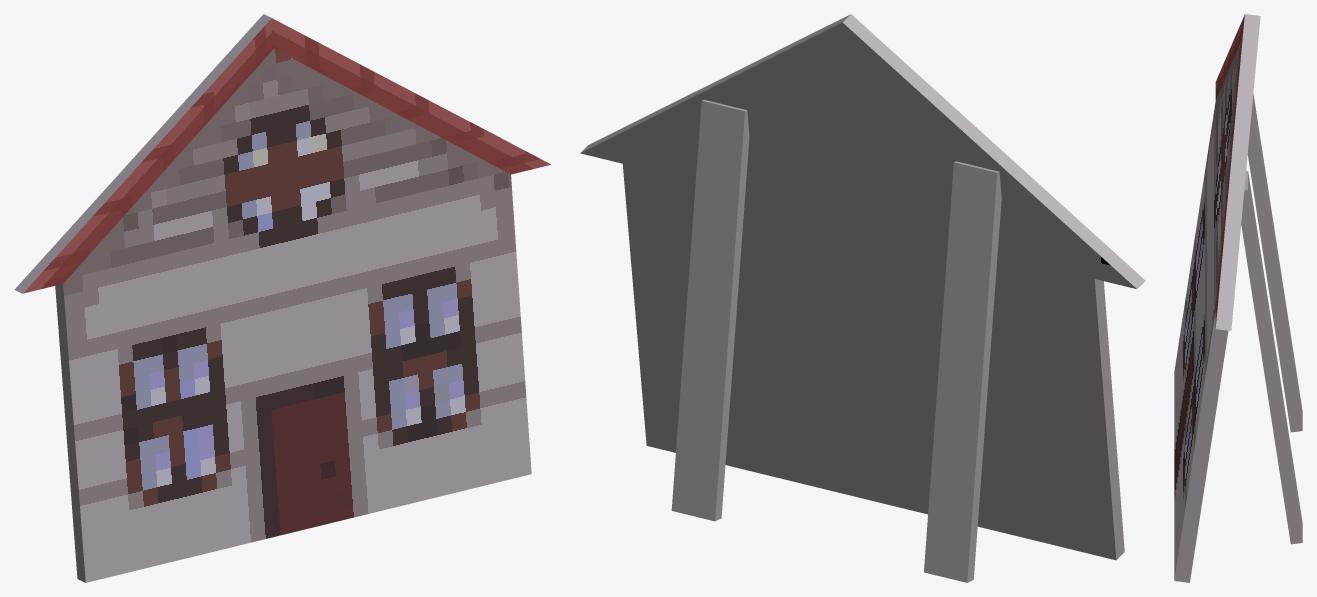
Rendered from FakeHome001.fbx.
3 renders of one model, left to right at view 1: azimuth 30°, elevation 25°; view 2: azimuth 150°, elevation 25°; view 3: azimuth 270°, elevation 25°, orthographic. The views are drawn at different scales.
Parts seen in each view (by area): view 1: Cube.007; view 2: Cube.007; view 3: Cube.007.
Boxes of the visible parts, x1,y1,x2,y2 form: Cube.007: [14, 14, 550, 582]; Cube.007: [580, 14, 1145, 582]; Cube.007: [1174, 14, 1302, 582].
Bounding box in the file's own units: 616 × 540 × 135.
Materials: 1 (1 with a texture image).
